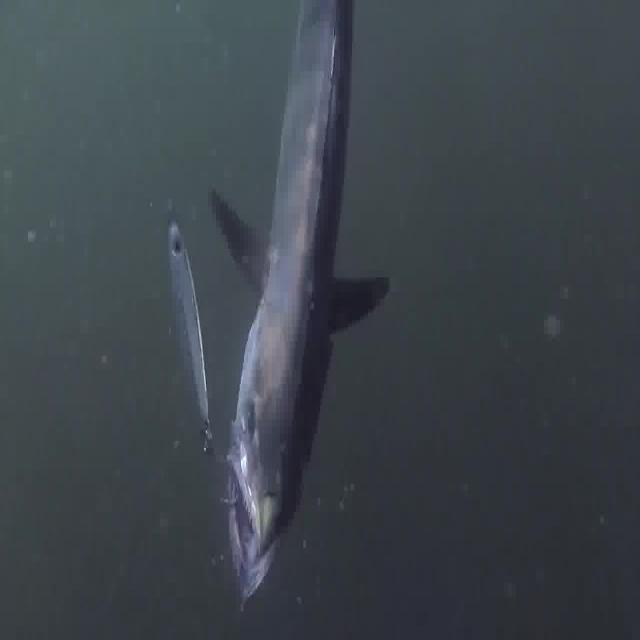Spanish Mackerel: (208, 2, 392, 605)
